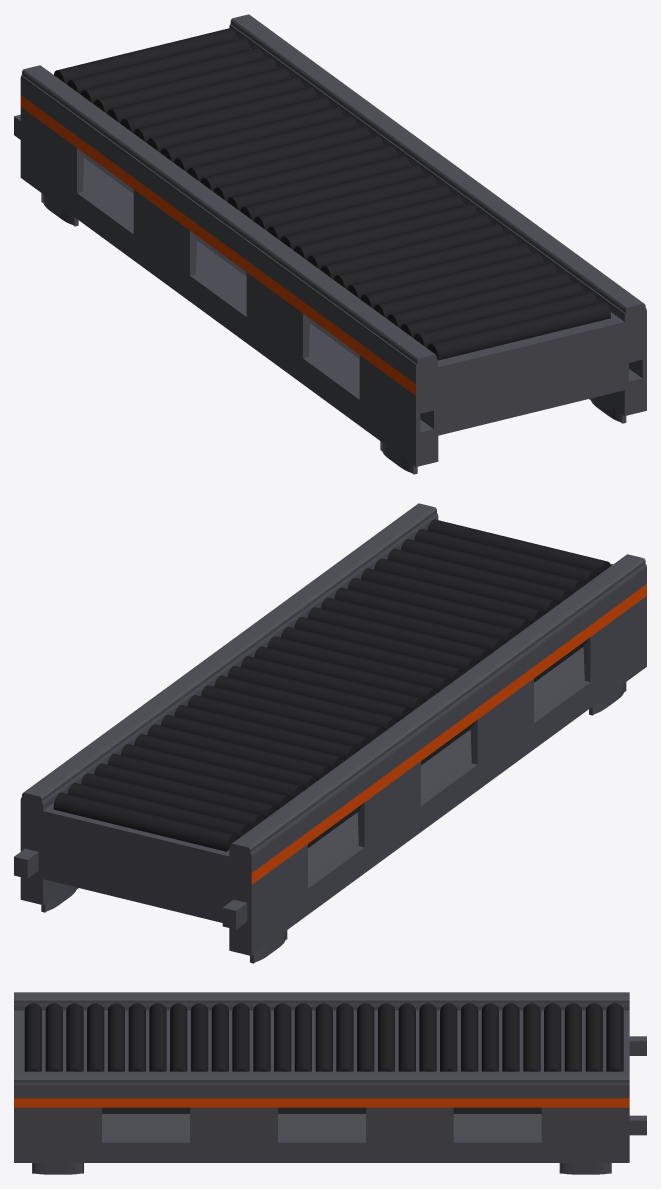
The model's file is Conveyor_Trash.fbx.
3 views of the same model, one above another, from view 1: azimuth 30°, elevation 25°; view 2: azimuth 150°, elevation 25°; view 3: azimuth 270°, elevation 25° (orthographic). The views are drawn at different scales.
Visible parts, largest first — view 1: Cube, Cylinder; view 2: Cube, Cylinder; view 3: Cube, Cylinder.
Boxes of the visible parts, bbox=[...] form: Cube: bbox=[14, 14, 646, 474]; Cylinder: bbox=[54, 28, 610, 360]; Cube: bbox=[14, 503, 646, 963]; Cylinder: bbox=[53, 519, 610, 851]; Cube: bbox=[14, 992, 646, 1174]; Cylinder: bbox=[24, 1003, 623, 1071].
Size of the model in its own units: 200 by 104 by 609.
